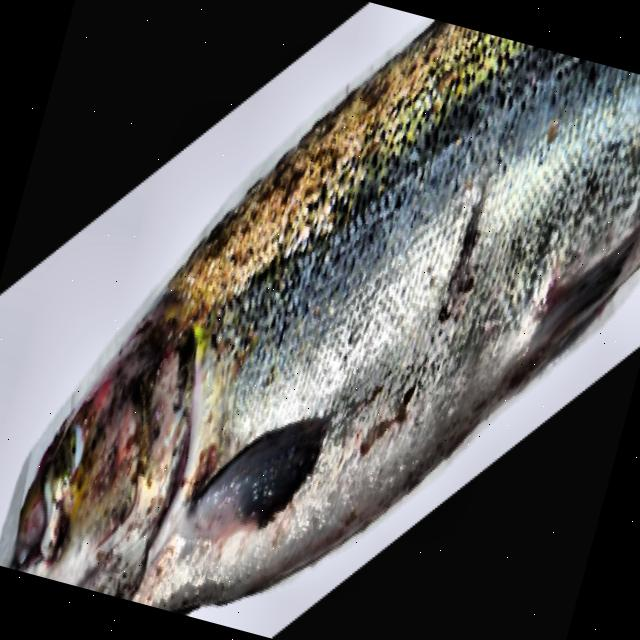mild_red: (133, 19, 640, 611)
